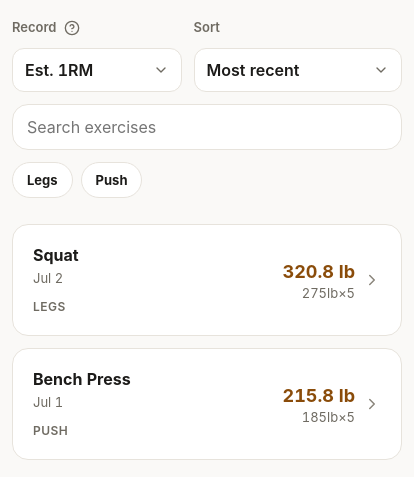
it: PRsTab tags, filtering, and row navigation › tag filter narrows the board
Click the button "Push" at point(112, 180), box [81,162,142,198]
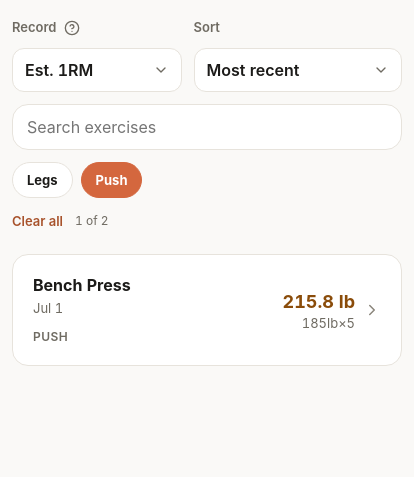
Expected: the text "Bench Press" is shown, [33,273,131,297]
Now the button "Squat" is gone
